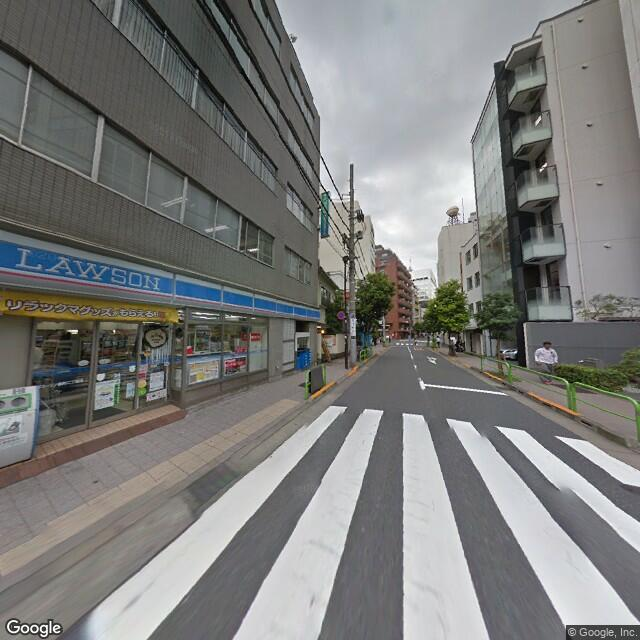lawson: (1, 227, 323, 321)
